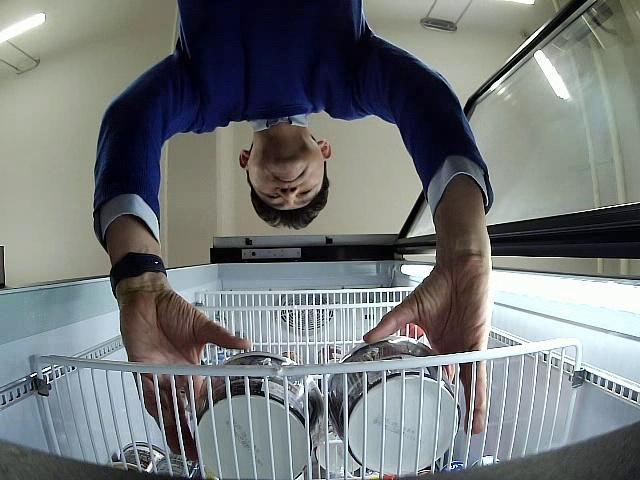07_buldak_L: (328, 335, 460, 475), (196, 352, 324, 480)
